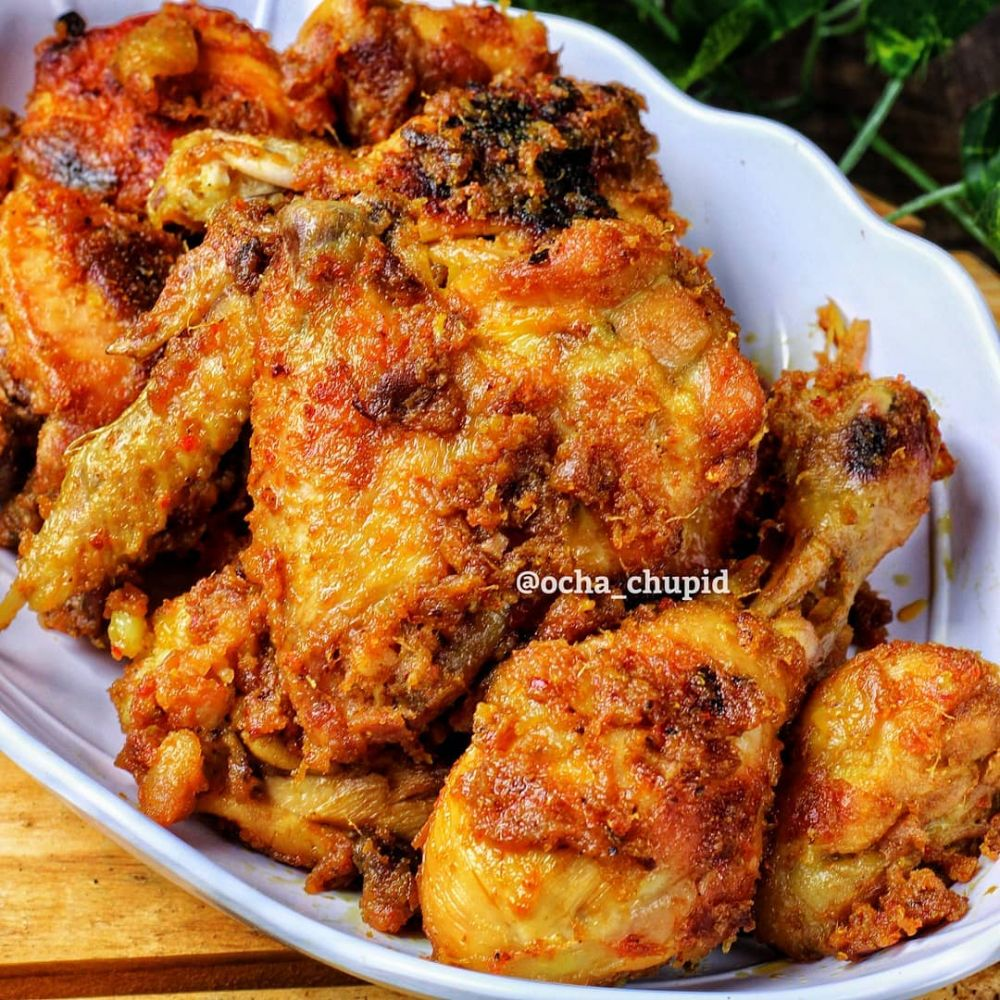Ayam: (371, 334, 980, 943)
